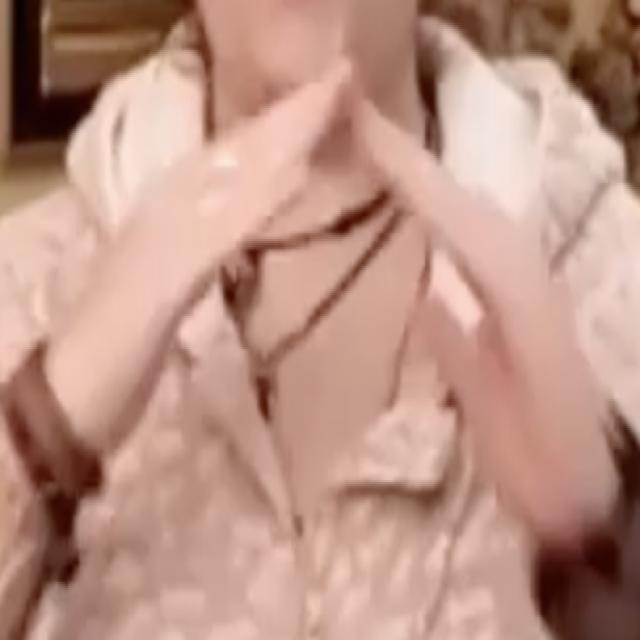casa: (41, 58, 625, 549)
